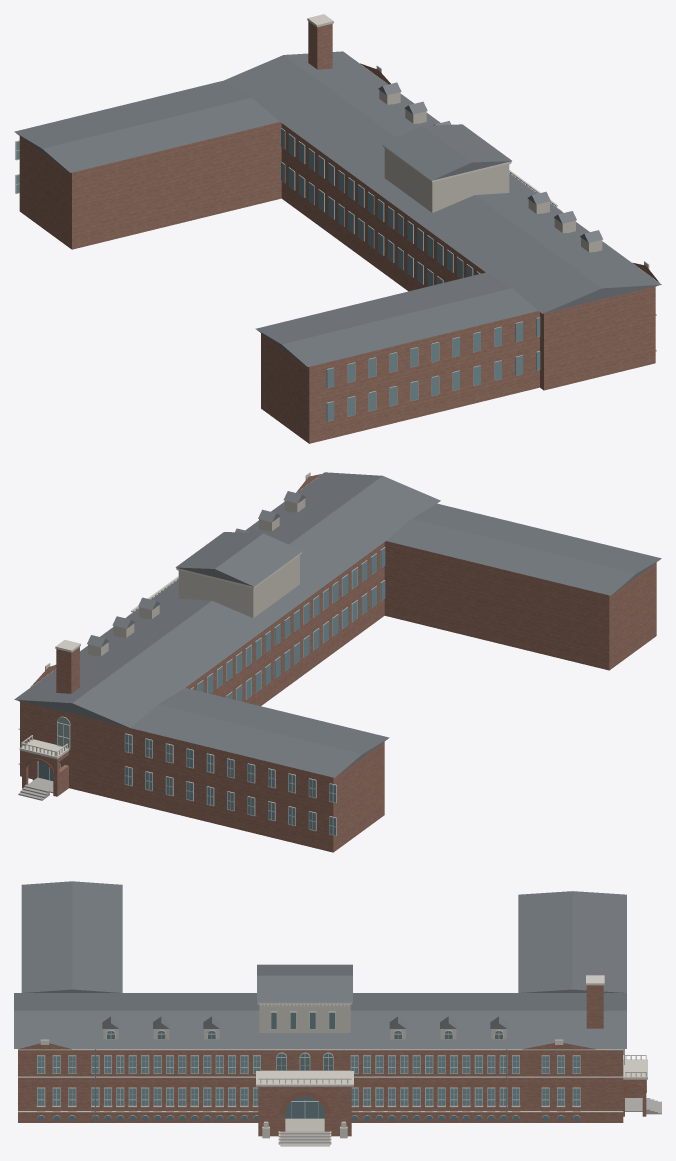
3 renders of one model, top to bottom at view 1: azimuth 30°, elevation 25°; view 2: azimuth 150°, elevation 25°; view 3: azimuth 270°, elevation 25°, orthographic. The views are drawn at different scales.
Visible parts, largest first — view 1: b01__brick, b01__roof, b01__glass, b01__stone-wall, b01__frame, b01__trim-stone; view 2: b01__roof, b01__brick, b01__glass, b01__stone-wall, b01__frame, b01__trim-stone, b01__steps; view 3: b01__roof, b01__brick, b01__glass, b01__trim-stone, b01__frame, b01__glass-dark, b01__stone-wall, b01__steps, b01__soffit-membrane, b01__arch-brick.
Part boxes in pixels (x1,y1,x2,y2): b01__brick: [19, 21, 659, 443]; b01__roof: [14, 51, 661, 366]; b01__glass: [16, 128, 540, 421]; b01__stone-wall: [379, 90, 602, 252]; b01__frame: [15, 128, 539, 421]; b01__trim-stone: [307, 14, 656, 351]; b01__roof: [14, 472, 661, 777]; b01__brick: [20, 474, 656, 852]; b01__glass: [125, 547, 385, 835]; b01__stone-wall: [88, 498, 305, 656]; b01__frame: [38, 547, 384, 836]; b01__trim-stone: [18, 472, 310, 764]; b01__steps: [18, 777, 53, 800]; b01__roof: [14, 881, 626, 1048]; b01__brick: [18, 985, 646, 1136]; b01__glass: [37, 1056, 579, 1105]; b01__trim-stone: [18, 975, 647, 1144]; b01__frame: [37, 1011, 624, 1118]; b01__glass-dark: [38, 1012, 579, 1120]; b01__stone-wall: [103, 1004, 506, 1039]; b01__steps: [280, 1098, 661, 1143]; b01__soffit-membrane: [285, 1118, 324, 1131]; b01__arch-brick: [279, 1079, 646, 1114].
Size of the model in its own units: 56.35 by 18.26 by 83.5.
Materials: 13 (1 with a texture image).
